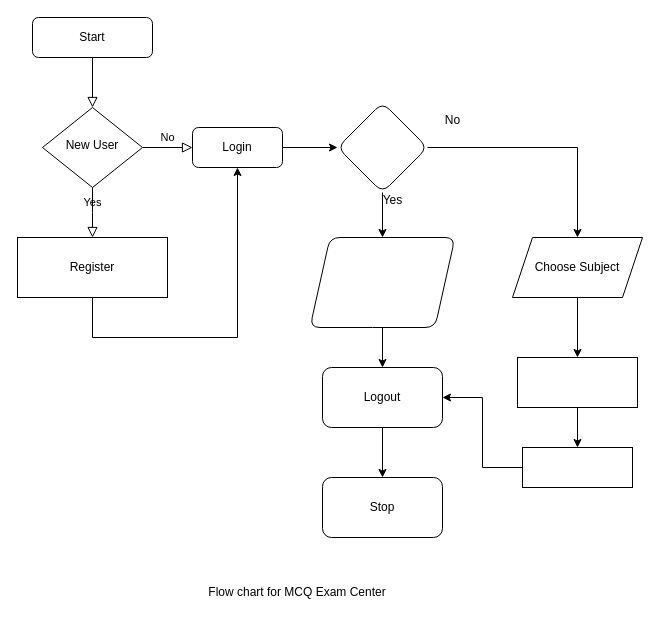
Some shapes in this 660 by 625 pixel diagram are drawn without their labels. The centre of each missing label's shape, as x and y in pixels:
"Is Admin" belongs at [382,147].
"List All Students List All Subjects List All Questions Add Subject Add Questions" belongs at [382,282].
"Start Exam" belongs at [577,382].
"Submit and get Score" belongs at [577,467].
